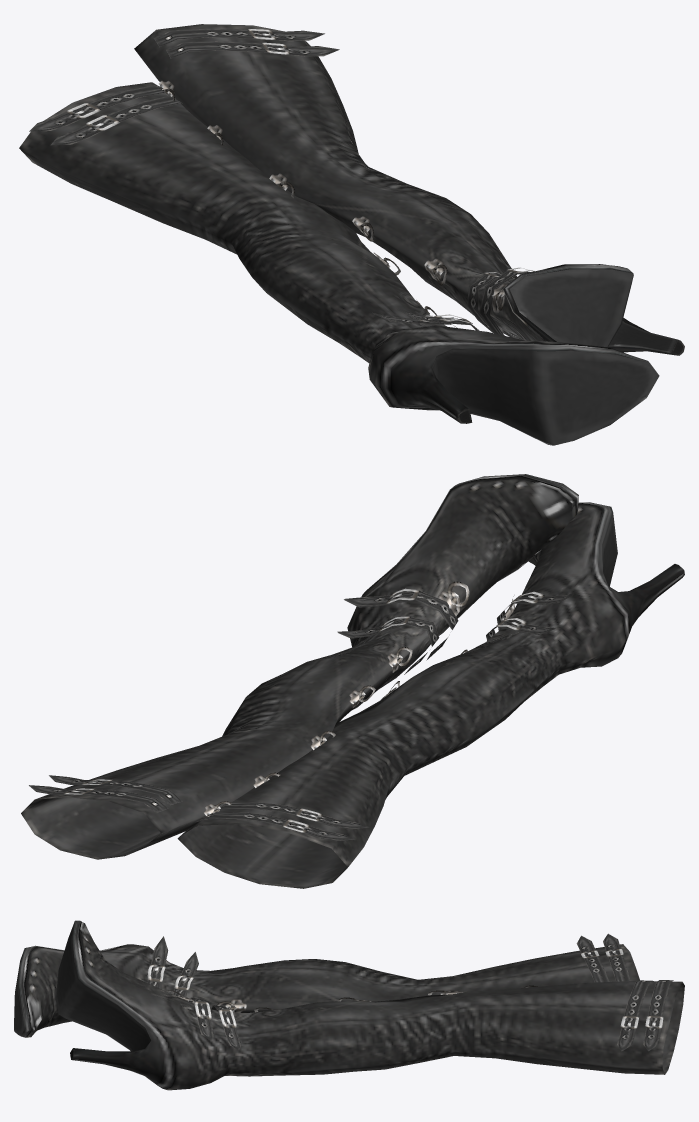
File: Stiletto_Thigh_Ground.fbx
3 renders of one model, top to bottom at view 1: azimuth 30°, elevation 25°; view 2: azimuth 150°, elevation 25°; view 3: azimuth 270°, elevation 25°, orthographic. The views are drawn at different scales.
Parts seen in each view (by area): view 1: Stiletto_Thigh; view 2: Stiletto_Thigh; view 3: Stiletto_Thigh.
Boxes of the visible parts, bbox=[...] form: Stiletto_Thigh: bbox=[19, 24, 684, 445]; Stiletto_Thigh: bbox=[21, 474, 684, 888]; Stiletto_Thigh: bbox=[14, 920, 684, 1090].
Bounding box in the file's own units: 0.2041 × 0.1092 × 0.4752.
